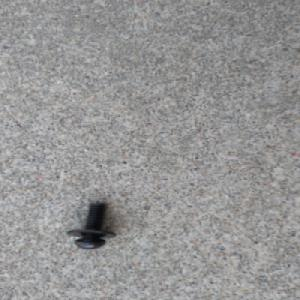BoltWasher: (64, 202, 117, 249)
